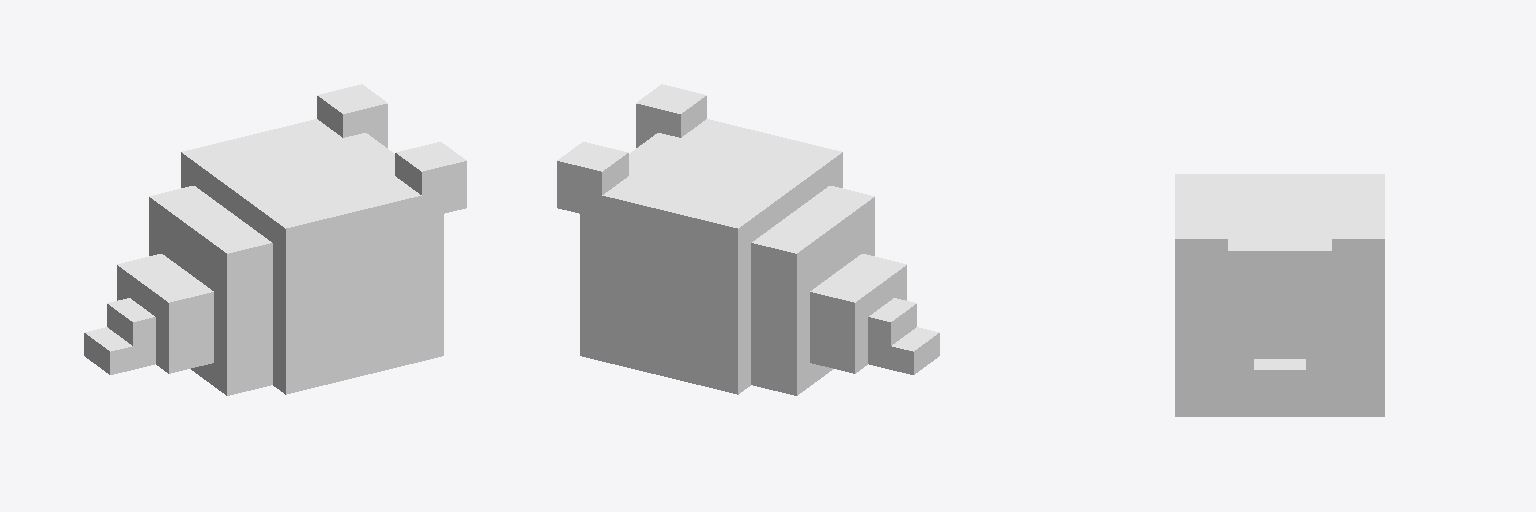
Rendered from fast.obj.
The picture shows the model from 3 angles: view 1: azimuth 30°, elevation 25°; view 2: azimuth 150°, elevation 25°; view 3: azimuth 270°, elevation 25°; orthographic projection.
Visible parts, largest first — view 1: object 1; view 2: object 1; view 3: object 1.
Boxes of the visible parts, x1,y1,x2,y2 form: object 1: [84, 84, 466, 395]; object 1: [557, 84, 939, 395]; object 1: [1175, 174, 1384, 416].
Size of the model in its own units: 1.4 by 0.8 by 0.8.